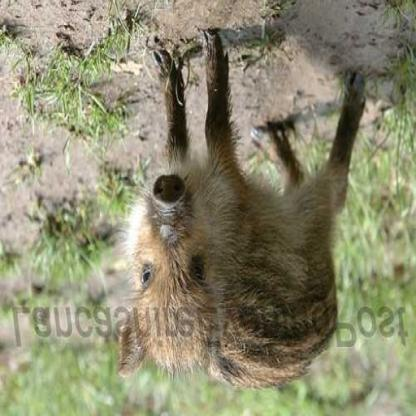boar: (112, 63, 378, 392)
